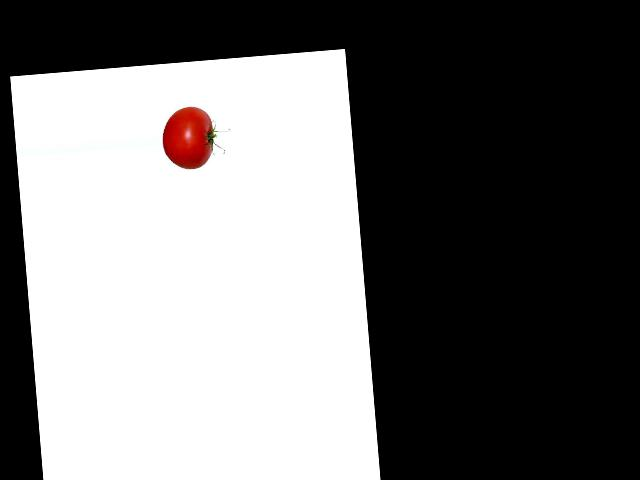tomato: (159, 104, 216, 170)
